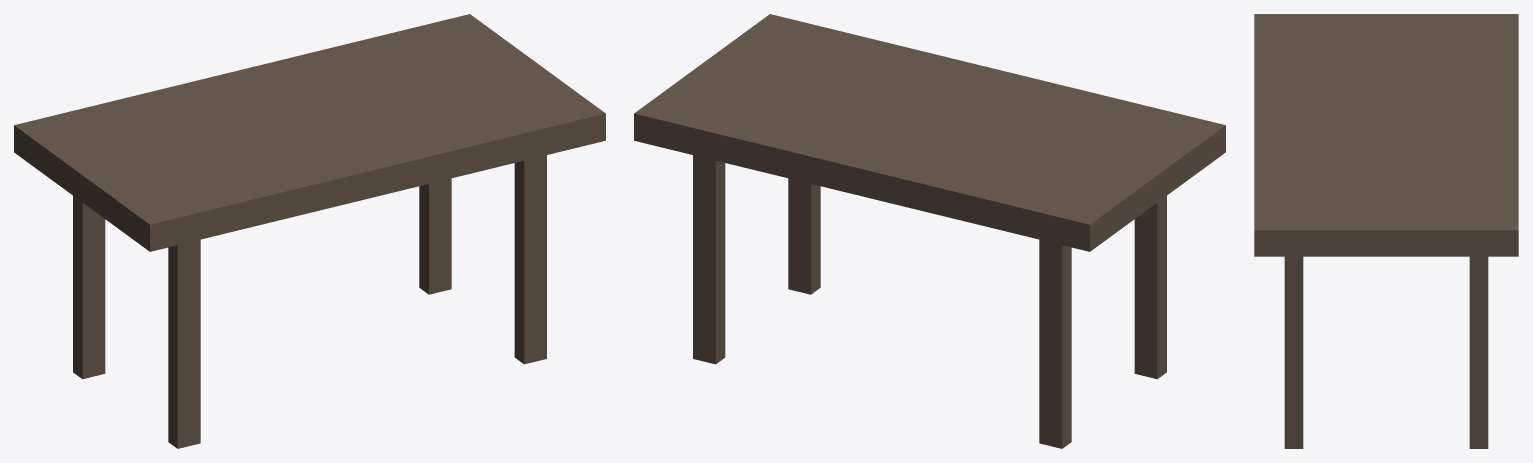
Rendered from P017-blockout-v1.glb.
3 renders of one model, left to right at view 1: azimuth 30°, elevation 25°; view 2: azimuth 150°, elevation 25°; view 3: azimuth 270°, elevation 25°, orthographic. The views are drawn at different scales.
Visible parts, largest first — view 1: 桌面, 支腳 (×4); view 2: 桌面, 支腳 (×4); view 3: 桌面, 支腳 (×2).
Part boxes in pixels (x1,y1,x2,y2): 桌面: [14, 14, 605, 251]; 支腳 (×4): [73, 155, 546, 448]; 桌面: [634, 14, 1225, 251]; 支腳 (×4): [693, 155, 1166, 448]; 桌面: [1254, 14, 1518, 256]; 支腳 (×2): [1284, 256, 1488, 448].
Size of the model in its own units: 1.2 by 0.6194 by 0.62.
